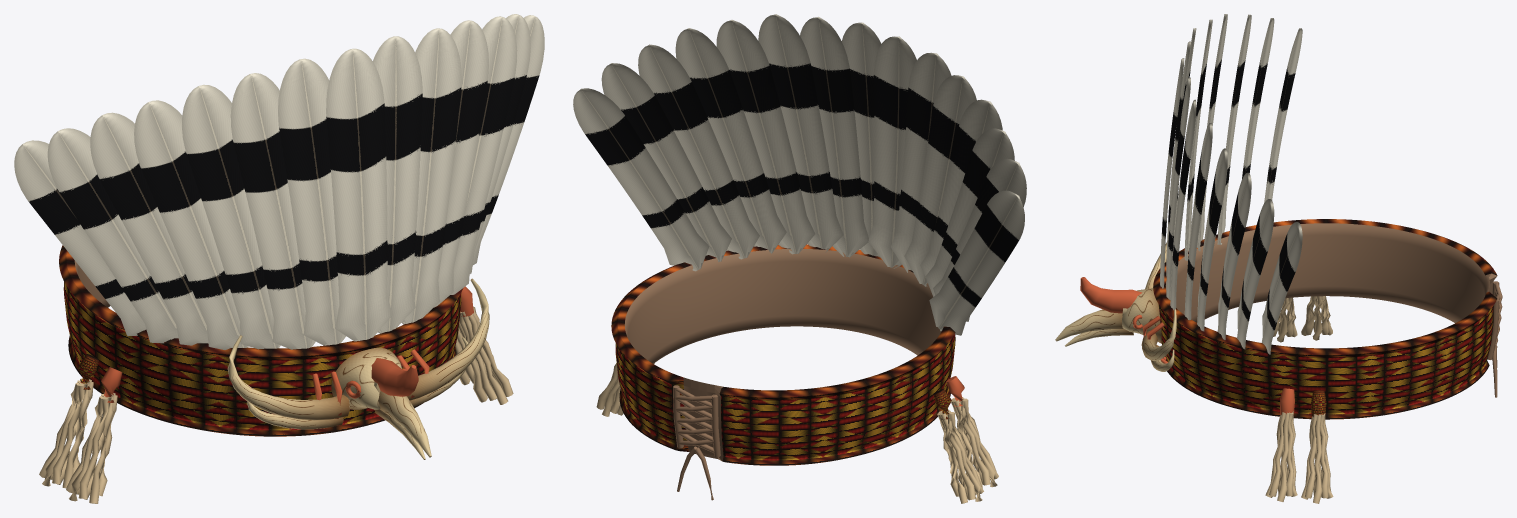
The model's file is 03_Kalimantan_Dayak_Lavung.fbx.
The picture shows the model from 3 angles, left to right: view 1: azimuth 30°, elevation 25°; view 2: azimuth 150°, elevation 25°; view 3: azimuth 270°, elevation 25°; orthographic projection. The views are drawn at different scales.
Parts seen in each view (by area): view 1: Dayak_Lavung; view 2: Dayak_Lavung; view 3: Dayak_Lavung.
Part boxes in pixels (box(x1,y1,x2,y2)): Dayak_Lavung: box(14, 14, 544, 503); Dayak_Lavung: box(573, 14, 1026, 503); Dayak_Lavung: box(1055, 14, 1502, 503).
Size of the model in its own units: 241 by 194 by 220.
